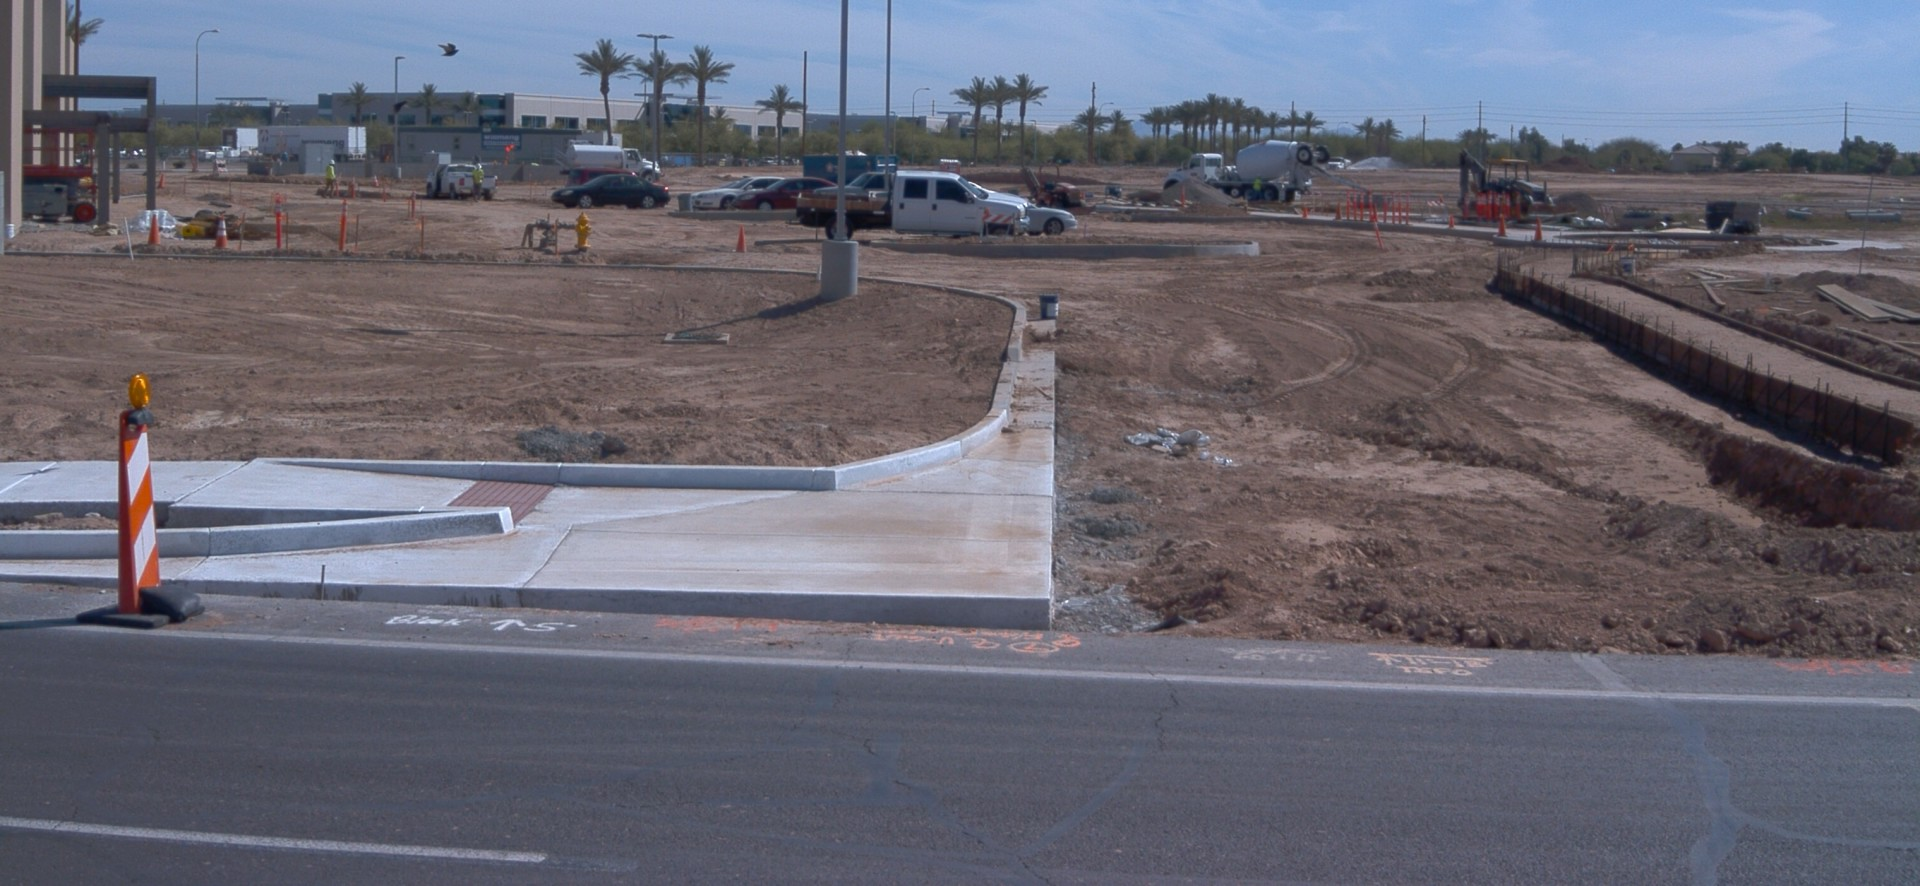TYPE_PEDESTRIAN: (321, 159, 339, 201), (471, 161, 486, 201), (1249, 171, 1264, 203)
TYPE_VEHICLE: (793, 170, 1029, 242), (1160, 141, 1374, 206), (1455, 146, 1570, 224), (101, 124, 259, 165), (253, 122, 366, 171), (566, 137, 663, 189), (553, 171, 676, 211), (731, 174, 840, 214), (1019, 162, 1087, 214), (692, 173, 784, 211), (424, 163, 500, 204), (1015, 198, 1078, 238), (563, 167, 666, 187), (811, 177, 895, 200), (691, 180, 741, 209), (1330, 154, 1353, 172), (967, 181, 995, 195)
